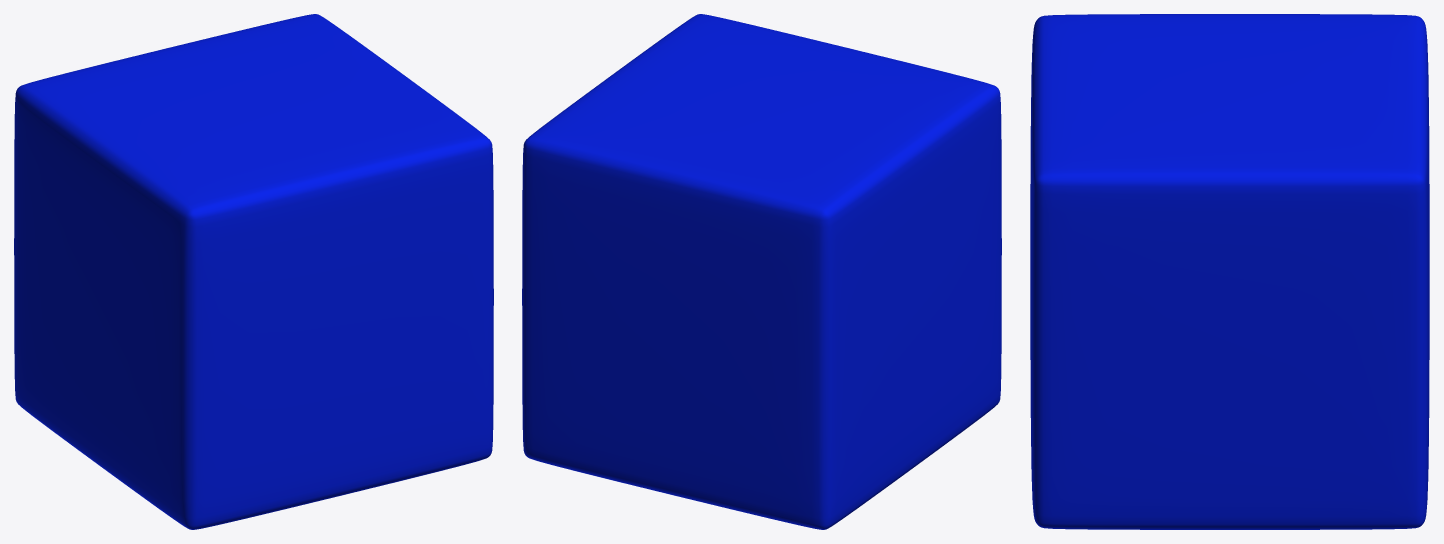
3 views of the same model, side by side, from view 1: azimuth 30°, elevation 25°; view 2: azimuth 150°, elevation 25°; view 3: azimuth 270°, elevation 25° (orthographic). The views are drawn at different scales.
Parts seen in each view (by area): view 1: Cube; view 2: Cube; view 3: Cube.
Boxes of the visible parts, box(x1,y1,x2,y2) form: Cube: box(14, 14, 493, 529); Cube: box(522, 14, 1001, 529); Cube: box(1030, 14, 1429, 529).
Size of the model in its own units: 0.1998 by 0.1998 by 0.1998.
